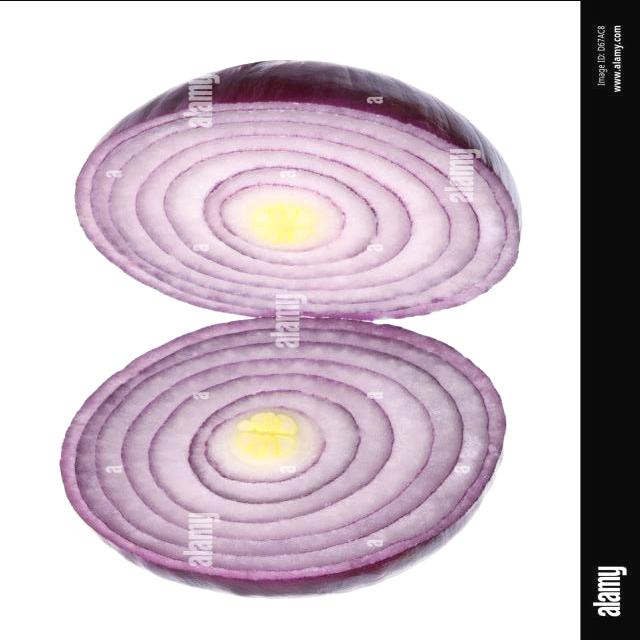onion: (62, 318, 505, 598), (72, 59, 525, 320)
